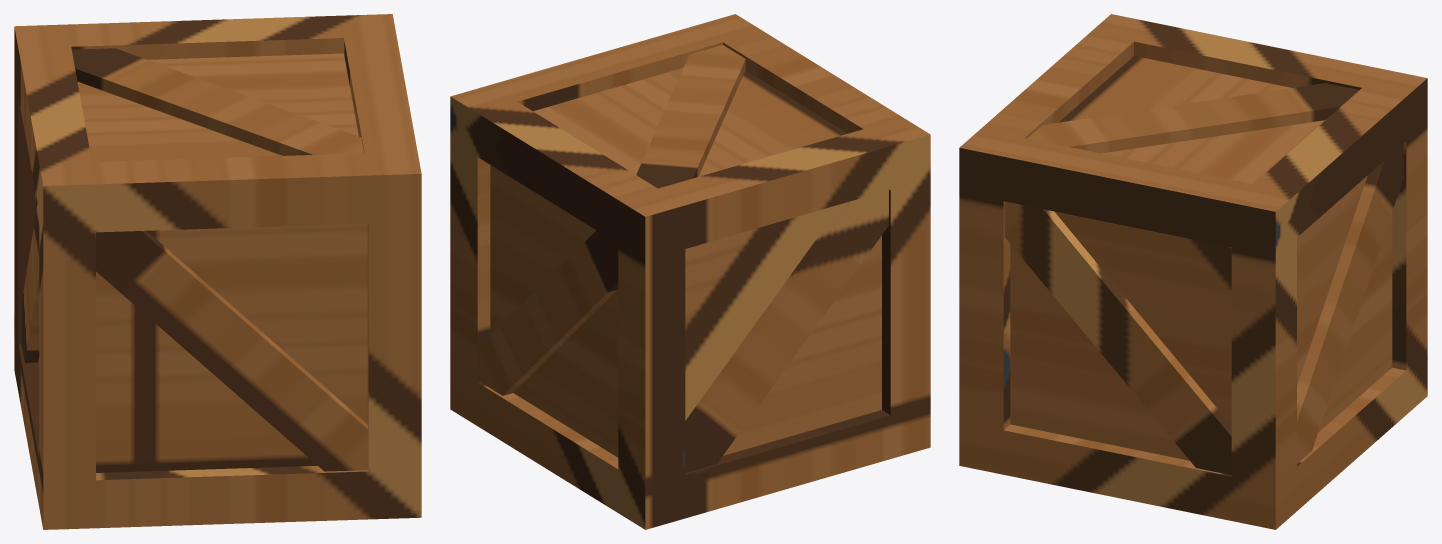
The model's file is caixa.obj.
The picture shows the model from 3 angles, left to right: view 1: azimuth 30°, elevation 25°; view 2: azimuth 150°, elevation 25°; view 3: azimuth 270°, elevation 25°; orthographic projection. The views are drawn at different scales.
Parts seen in each view (by area): view 1: Cube; view 2: Cube; view 3: Cube.
Part boxes in pixels (box(x1,y1,x2,y2)): Cube: box(14, 14, 421, 529); Cube: box(450, 14, 930, 529); Cube: box(959, 14, 1427, 529).
Size of the model in its own units: 0.6671 by 0.5 by 0.6671.
Materials: 1 (1 with a texture image).
